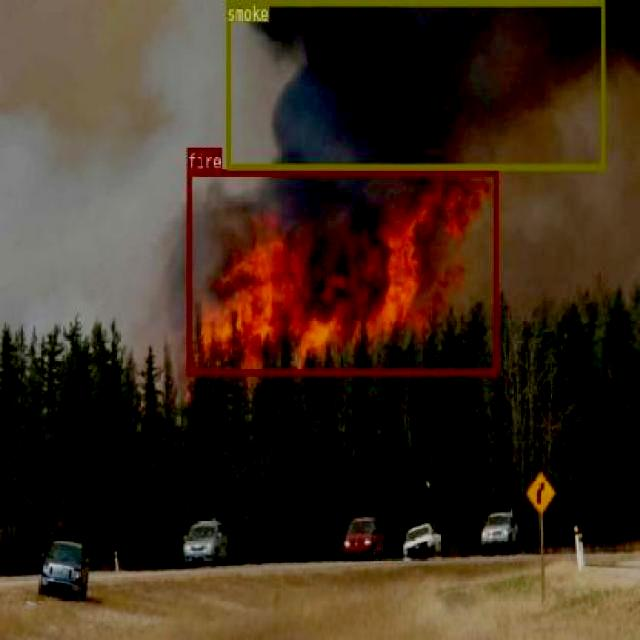fire: (187, 168, 498, 374)
smoke: (226, 0, 603, 169)
